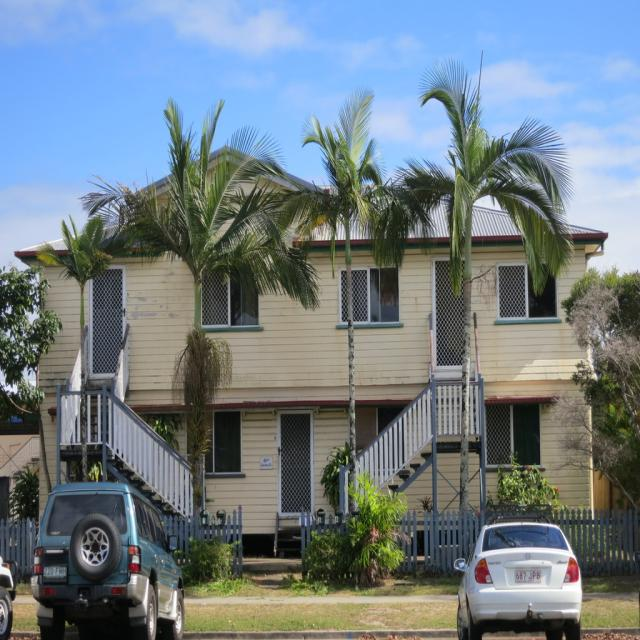car: (26, 479, 187, 639), (451, 510, 581, 636)
